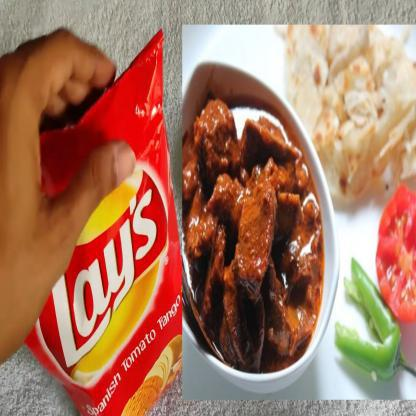tangy_tomato: (11, 27, 184, 415)
